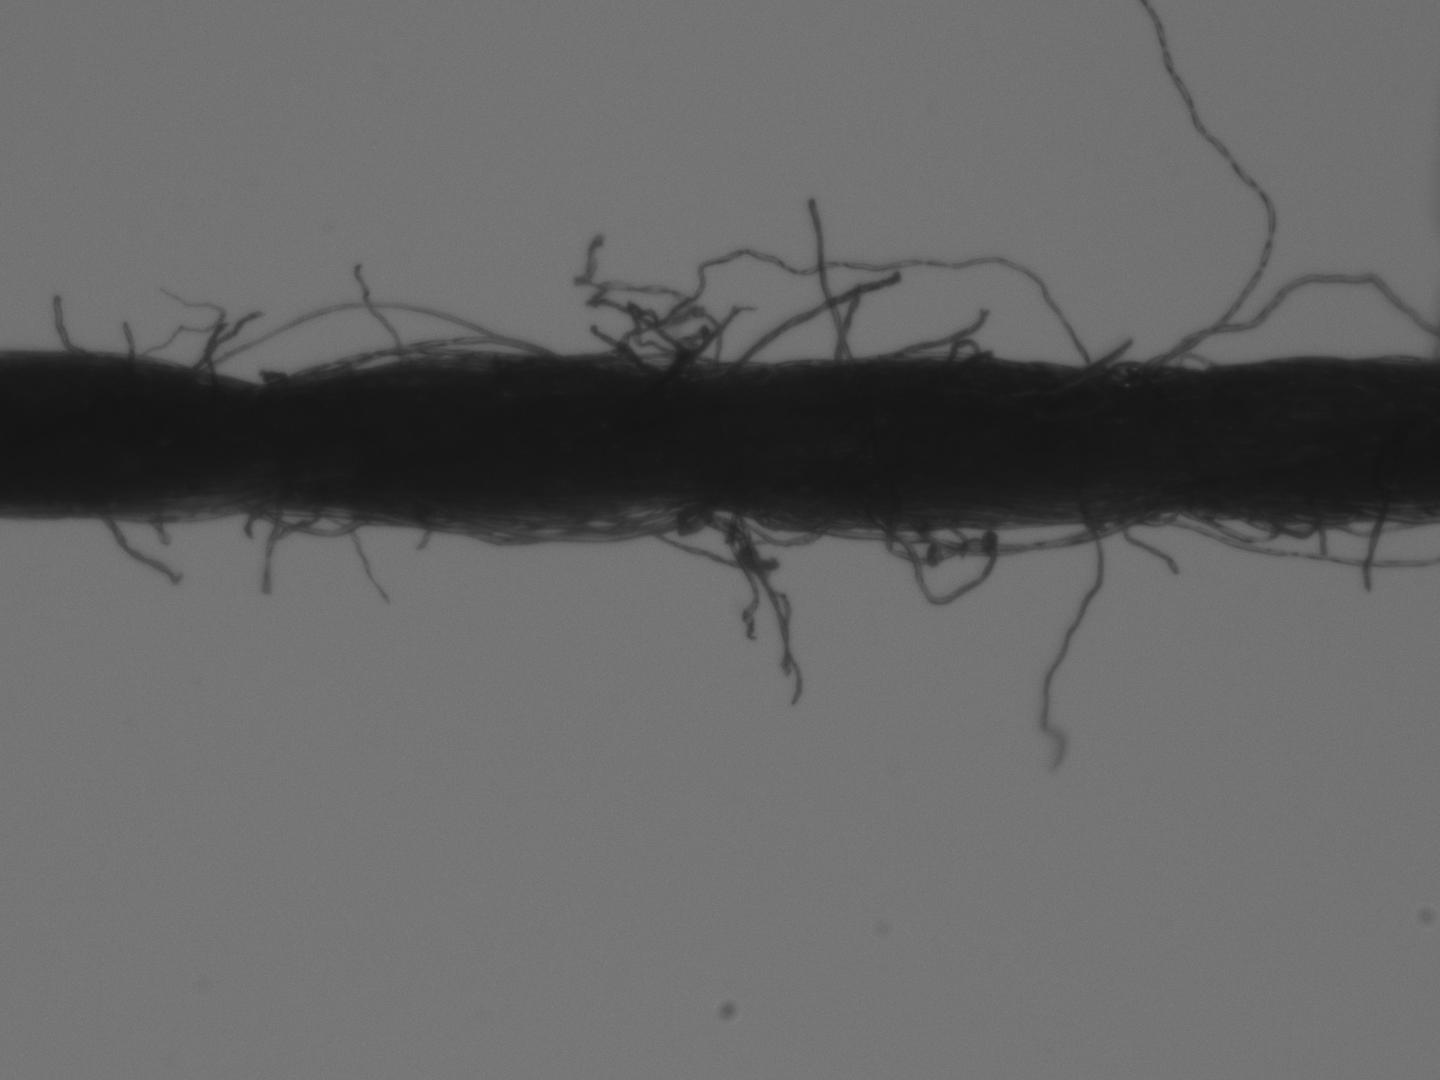loop_fiber: (637, 245, 1086, 370), (194, 296, 536, 378), (812, 506, 1152, 554), (876, 517, 990, 604), (486, 505, 709, 547), (285, 345, 478, 380), (612, 310, 725, 369), (246, 505, 367, 538), (735, 508, 827, 548), (415, 337, 545, 364), (1193, 508, 1296, 542), (1289, 511, 1416, 534), (255, 504, 282, 593), (1104, 503, 1176, 530), (1267, 508, 1323, 540), (1363, 513, 1383, 593), (945, 339, 996, 362)
protruding_fiber: (1144, 2, 1272, 366), (1036, 513, 1104, 774), (723, 271, 899, 371), (807, 195, 850, 362), (102, 512, 189, 593), (886, 303, 989, 355), (354, 264, 399, 360), (49, 295, 69, 353)
